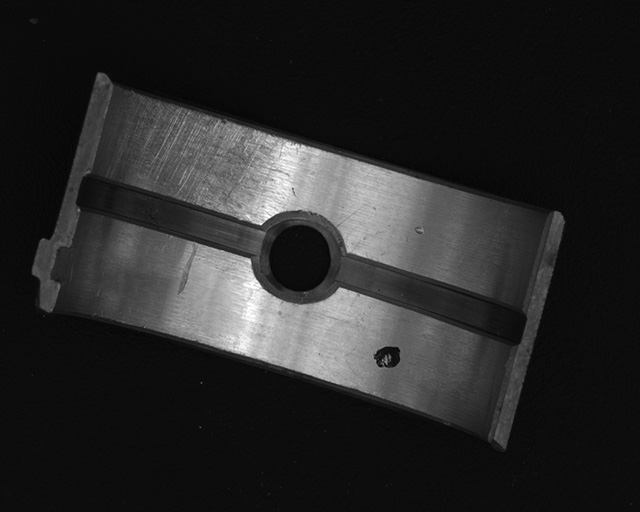blot: (373, 344, 402, 370)
bruise: (414, 224, 425, 237)
gap: (335, 252, 526, 346), (78, 175, 266, 257)
hole: (256, 213, 343, 303)
nick: (177, 240, 198, 296), (334, 202, 366, 229)
scratch: (107, 87, 292, 219)
